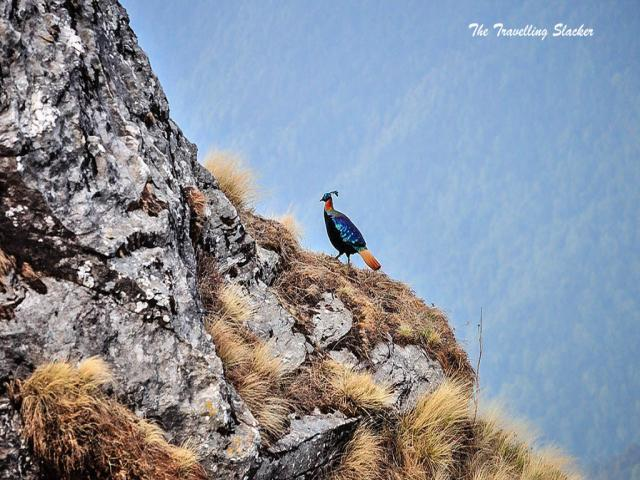Bird: (317, 189, 383, 273)
